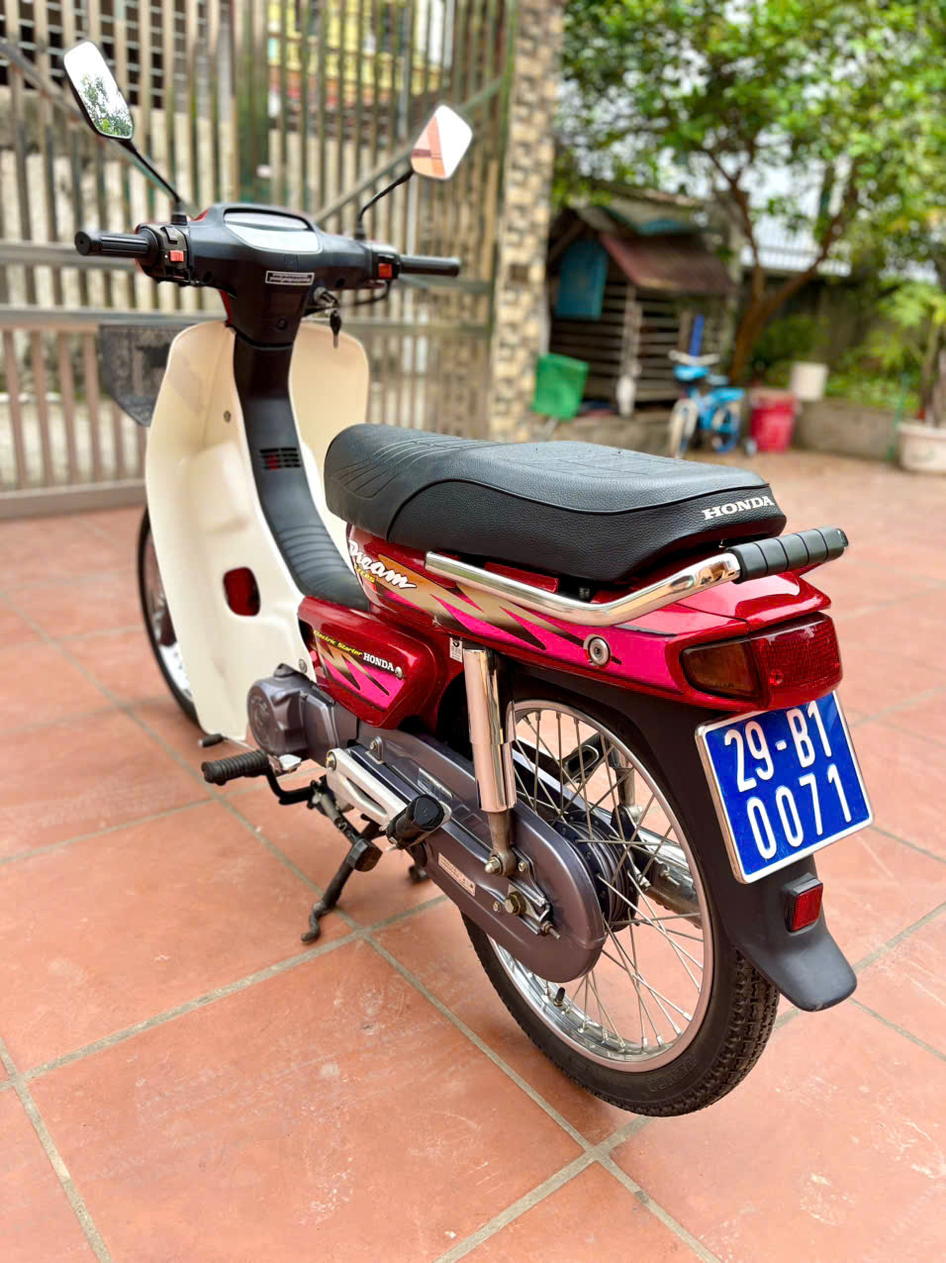bien_so: (690, 679, 887, 893)
